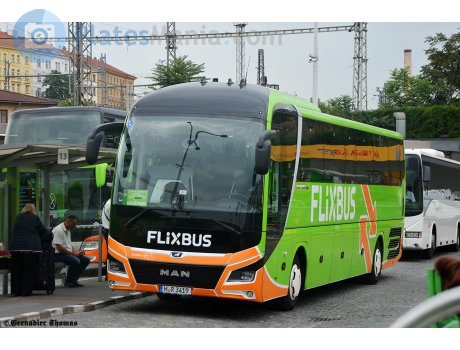License Plates: (153, 278, 193, 295)
